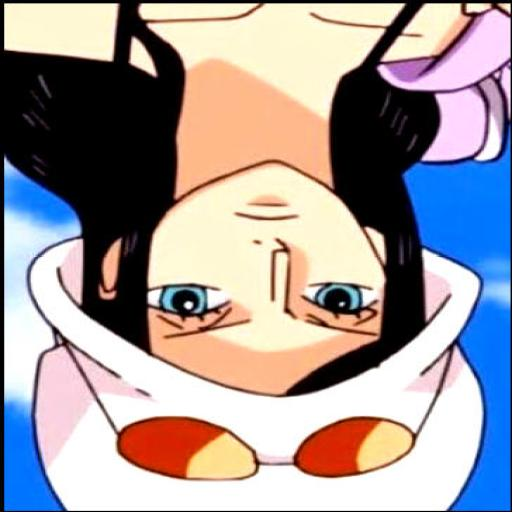NicoRobin: (6, 0, 498, 504)
